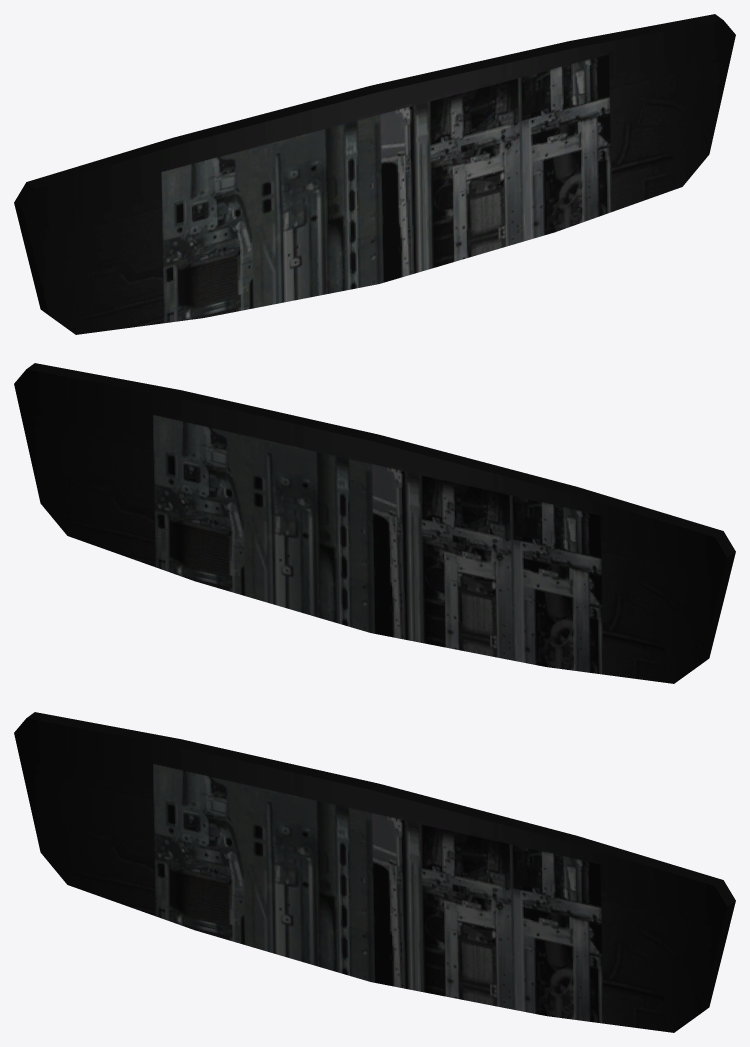
Rendered from backmirror.obj.
3 renders of one model, top to bottom at view 1: azimuth 30°, elevation 25°; view 2: azimuth 150°, elevation 25°; view 3: azimuth 330°, elevation 25°, orthographic.
Parts seen in each view (by area): view 1: body; view 2: body; view 3: body.
Part boxes in pixels (x1,y1,x2,y2): body: (14, 14, 735, 334); body: (14, 363, 735, 683); body: (14, 712, 735, 1032).
Bounding box in the file's own units: 4.85 × 1.25 × 0.1.
